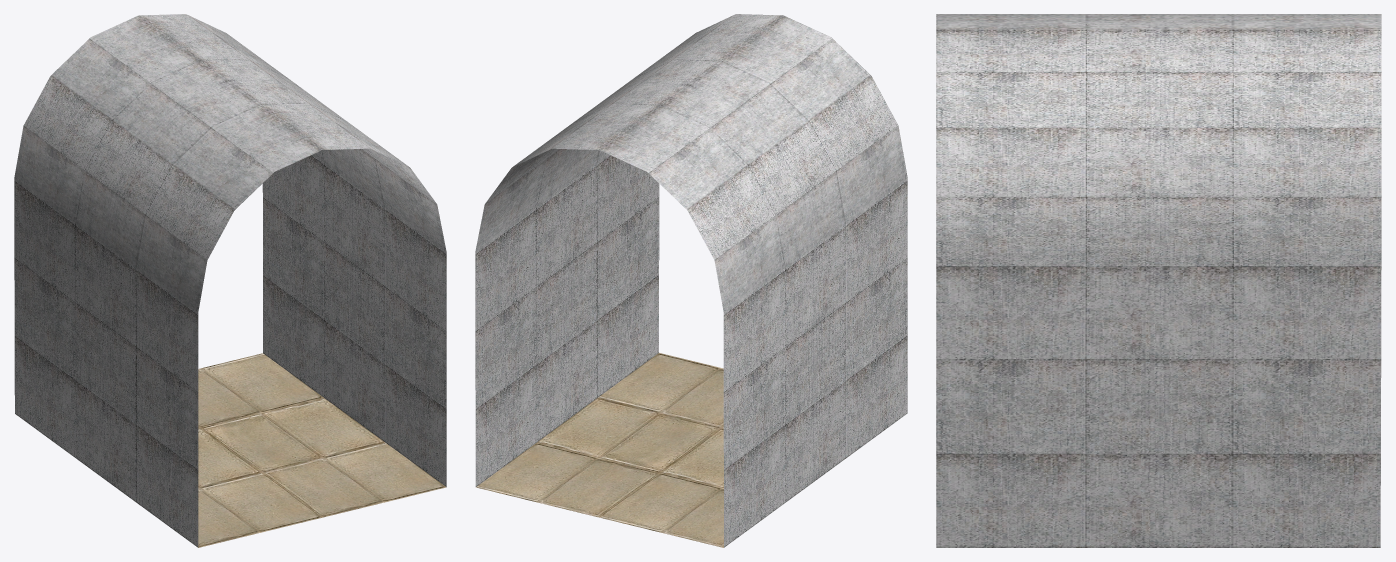
Rendered from thm_nboo_thed_hangar_r1_foyer_mesh_r1.fbx.
3 views of the same model, side by side, from view 1: azimuth 30°, elevation 25°; view 2: azimuth 150°, elevation 25°; view 3: azimuth 270°, elevation 25° (orthographic). The views are drawn at different scales.
Visible parts, largest first — view 1: mesh_node; view 2: mesh_node; view 3: mesh_node.
Part boxes in pixels (<box>): mesh_node: <box>14,14,446,547</box>; mesh_node: <box>475,14,907,547</box>; mesh_node: <box>936,14,1381,547</box>.
Size of the model in its own units: 4.34 by 6.14 by 5.57.
2 materials, 2 textured.
